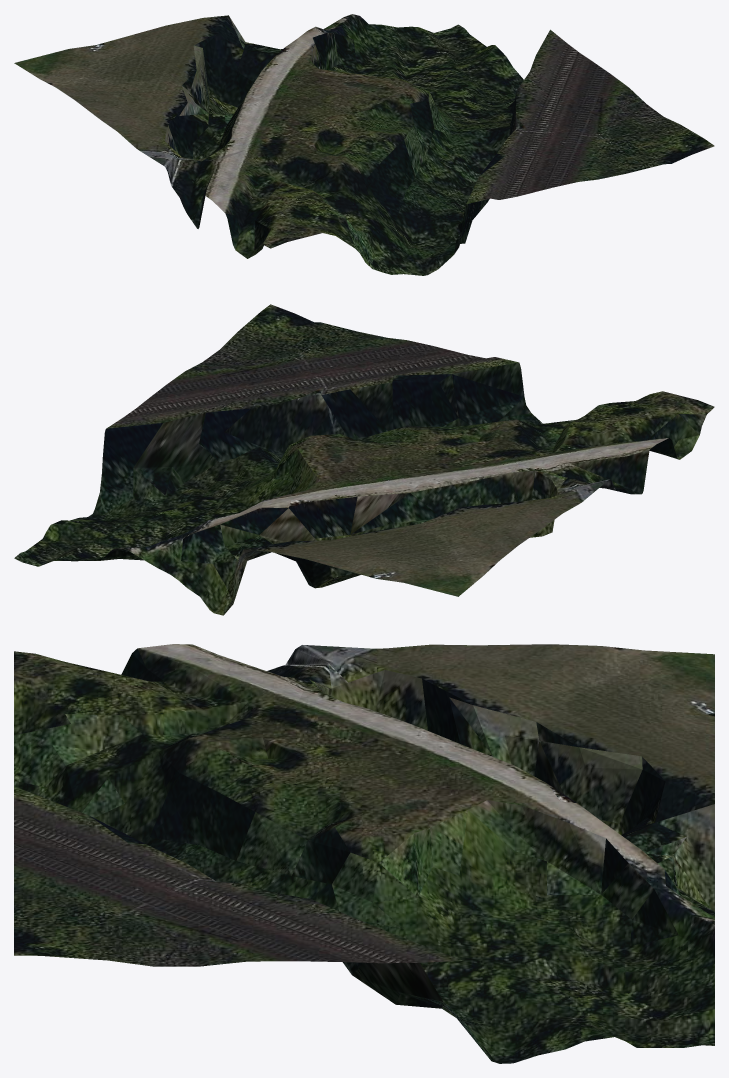
File: map_15_8185_13791.dae
3 views of the same model, one above another, from view 1: azimuth 30°, elevation 25°; view 2: azimuth 150°, elevation 25°; view 3: azimuth 270°, elevation 25° (orthographic). The views are drawn at different scales.
Parts seen in each view (by area): view 1: Ter0; view 2: Ter0; view 3: Ter0.
Boxes of the visible parts, x1,y1,x2,y2 form: Ter0: (14, 14, 714, 275); Ter0: (14, 304, 714, 615); Ter0: (14, 644, 714, 1063).
Size of the model in its own units: 63.87 by 63.88 by 12.63.
3 materials, 3 textured.
